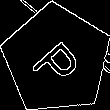P_NE: (26, 29, 87, 90)
